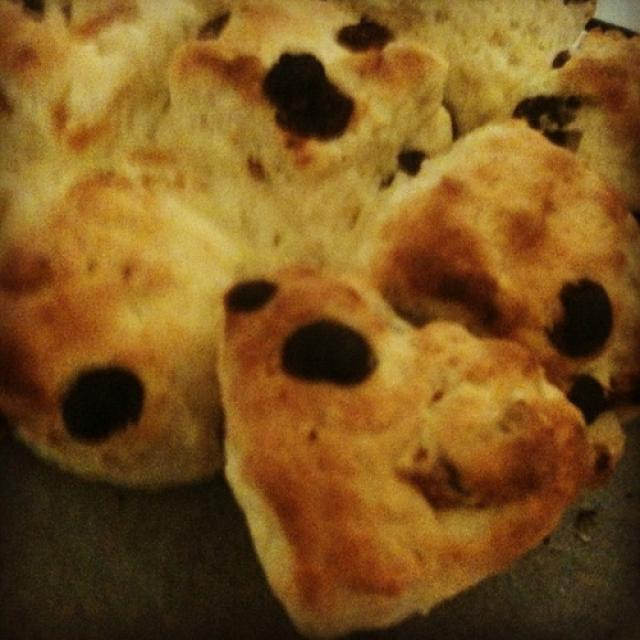面包点心: (5, 8, 617, 613)
